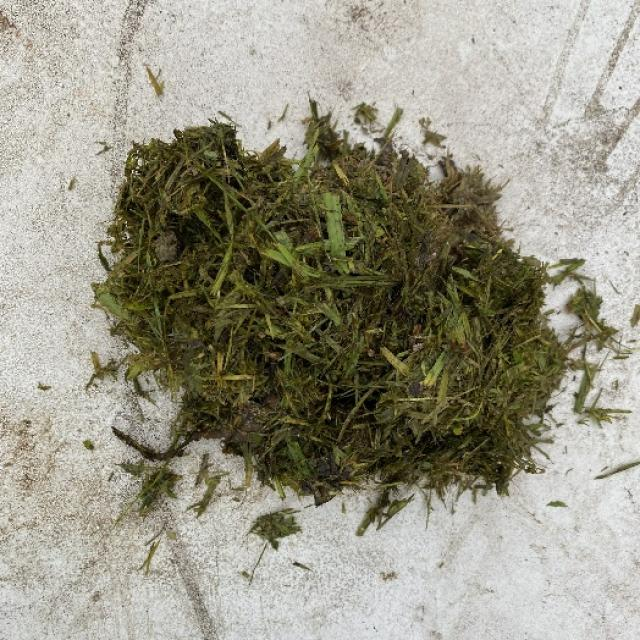organik: (120, 110, 546, 478)
